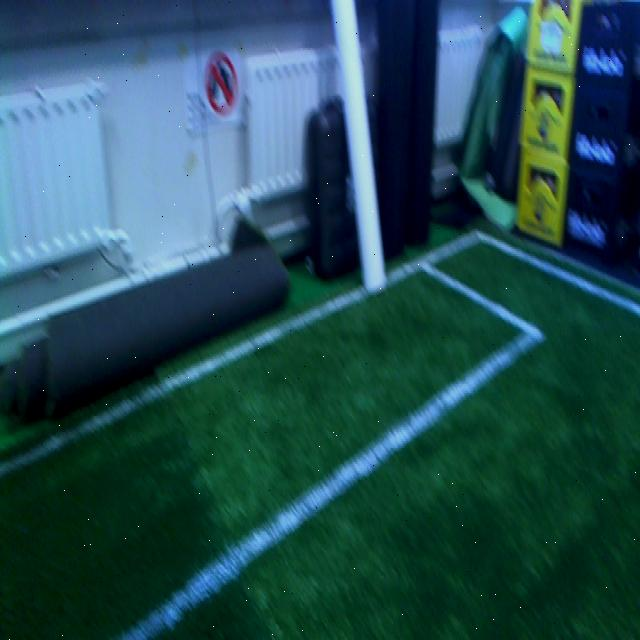goalpost: (339, 2, 387, 284)
